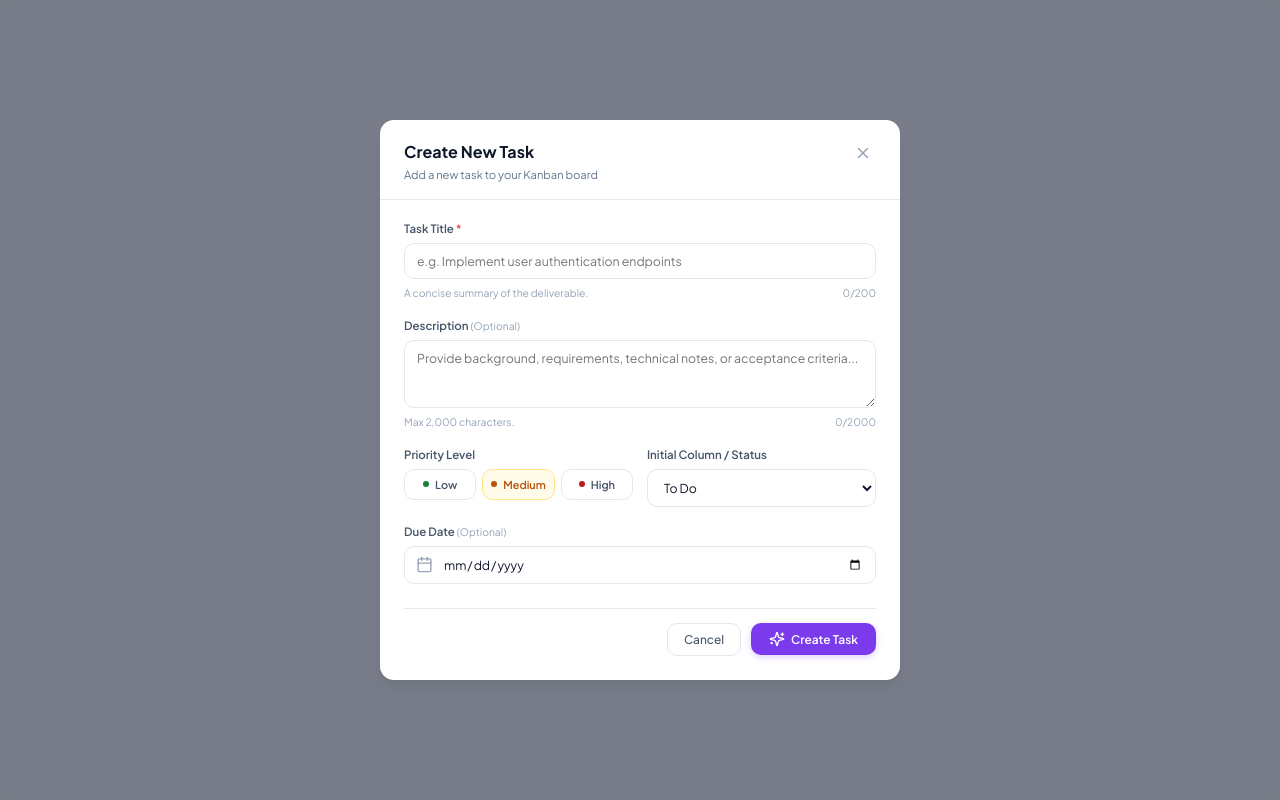
Test: TaskModal Component › validates empty title and prevents submission
The image size is (1280, 800).
Step 1. Click the button "Create Task" → (814, 639), box [751,623,876,655]
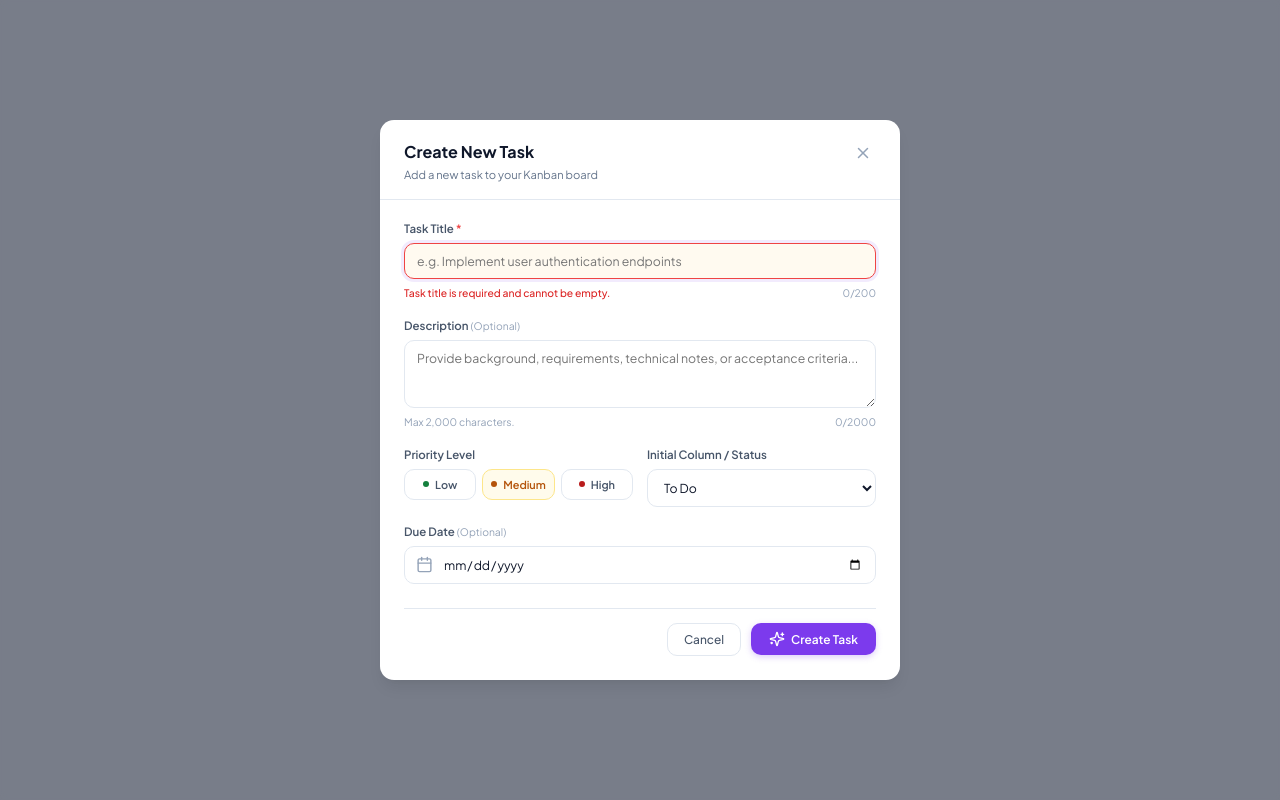
Expected: the text "Task title is required and cannot be empty." is shown, [404,285,610,301]
